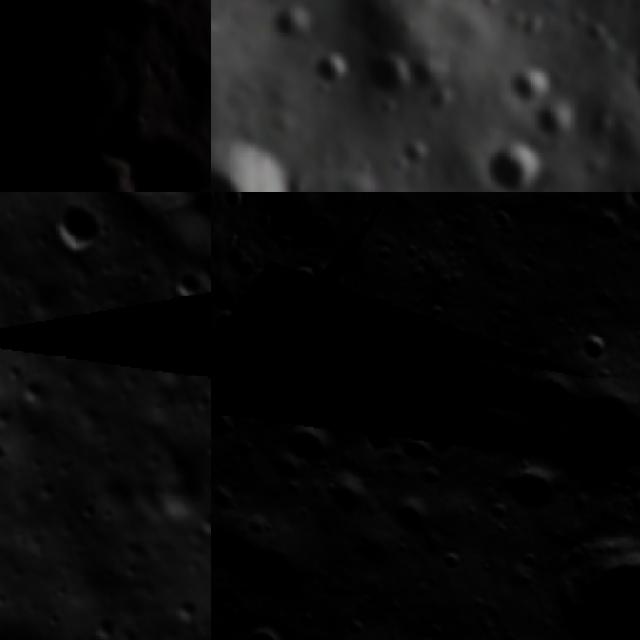crater: (0, 0, 166, 192), (492, 323, 640, 536), (522, 492, 640, 640), (218, 516, 326, 624), (34, 192, 128, 275), (274, 316, 360, 402), (493, 448, 574, 530), (112, 133, 211, 192), (277, 405, 350, 478), (211, 129, 292, 192), (86, 102, 152, 168), (324, 466, 384, 526), (486, 141, 552, 192), (580, 198, 636, 254), (227, 604, 311, 640), (260, 444, 314, 498), (386, 489, 439, 544), (364, 50, 414, 104), (272, 5, 330, 51), (572, 321, 624, 372), (162, 262, 211, 314), (358, 412, 407, 461), (312, 48, 360, 97), (211, 394, 247, 457), (164, 44, 211, 92), (419, 416, 466, 464), (242, 325, 288, 371), (502, 66, 554, 106), (431, 538, 476, 584), (464, 423, 509, 469), (434, 341, 479, 386), (535, 102, 583, 144), (498, 383, 543, 427), (389, 312, 430, 354), (478, 494, 518, 534), (214, 345, 254, 385), (211, 299, 246, 341), (399, 134, 437, 171), (414, 458, 451, 495), (512, 540, 549, 576), (399, 432, 436, 468), (486, 200, 522, 235), (620, 480, 640, 534), (292, 260, 324, 292), (428, 90, 465, 116), (559, 192, 596, 218), (581, 19, 614, 46), (211, 345, 224, 399), (627, 70, 640, 107), (625, 47, 640, 76)
